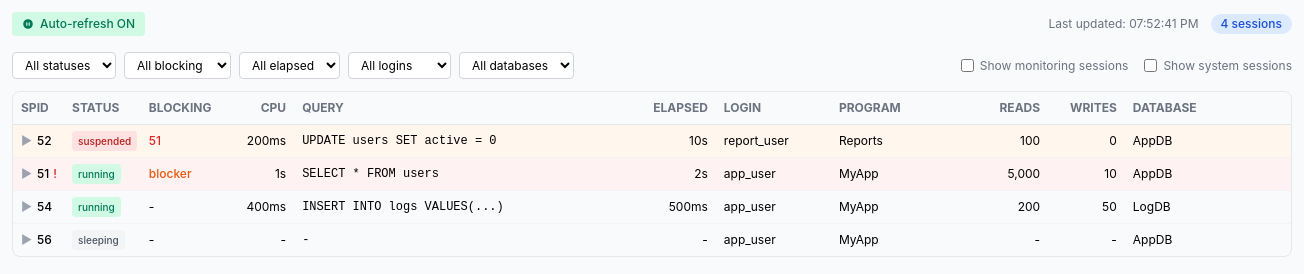
Test: CurrentActivity › filters by elapsed time
Select ">5s" in the dropdown with test id "filter-elapsed": (290, 66) [239,52,340,79]
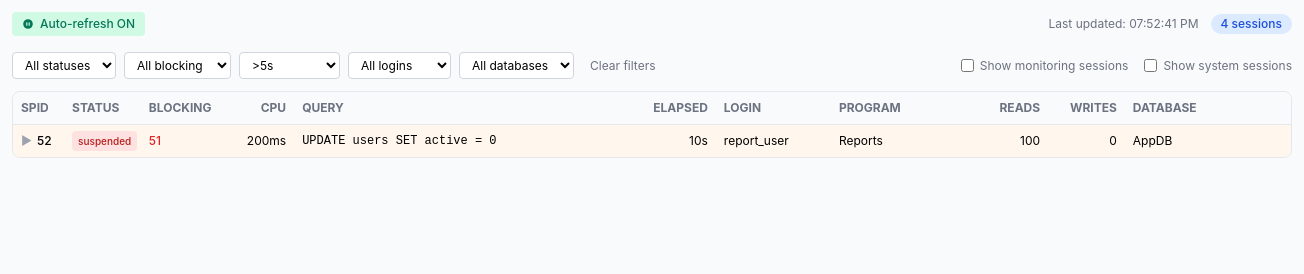
Expected: the row with test id "session-row-52" is shown, [13,124,1291,157]
Result: the row with test id "session-row-54" is gone
